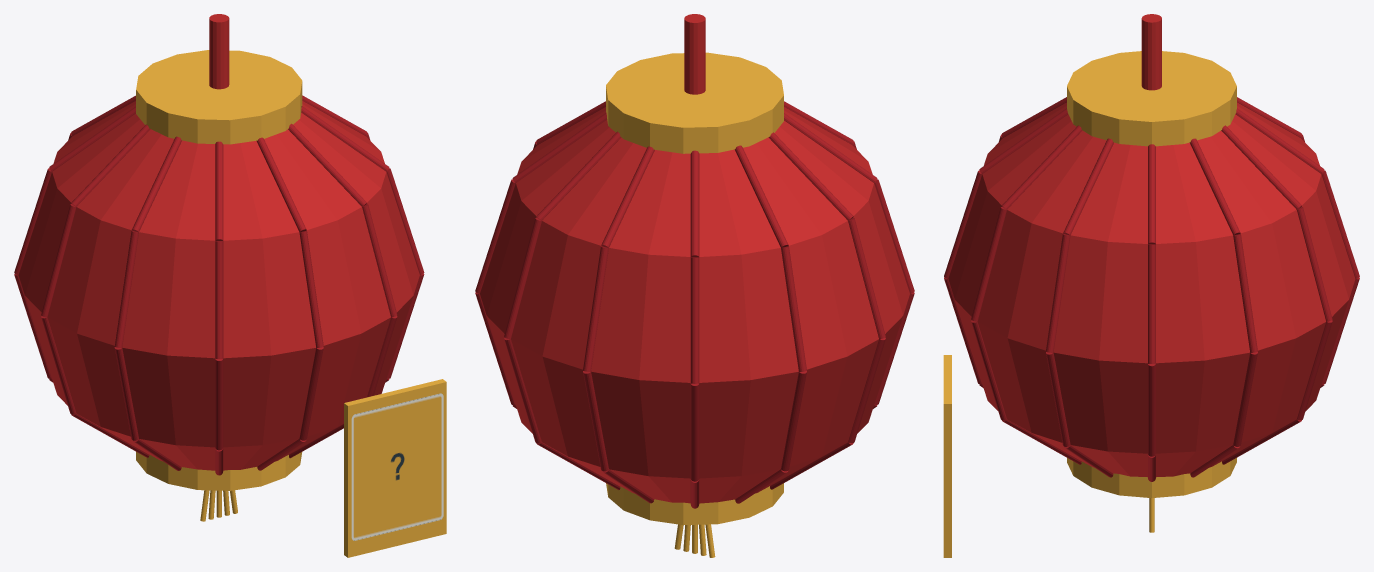
File: scendance-plan-cn-lantern-riddle.glb
3 renders of one model, left to right at view 1: azimuth 30°, elevation 25°; view 2: azimuth 150°, elevation 25°; view 3: azimuth 270°, elevation 25°, orthographic. The views are drawn at different scales.
Bounding box in the file's own units: 0.6115 × 0.8206 × 0.6128.
4 materials, 1 textured.
